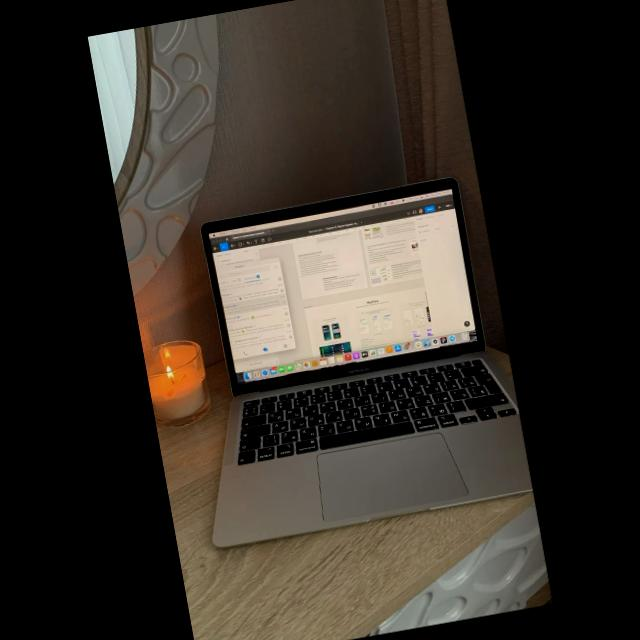laptop: (201, 177, 531, 547)
